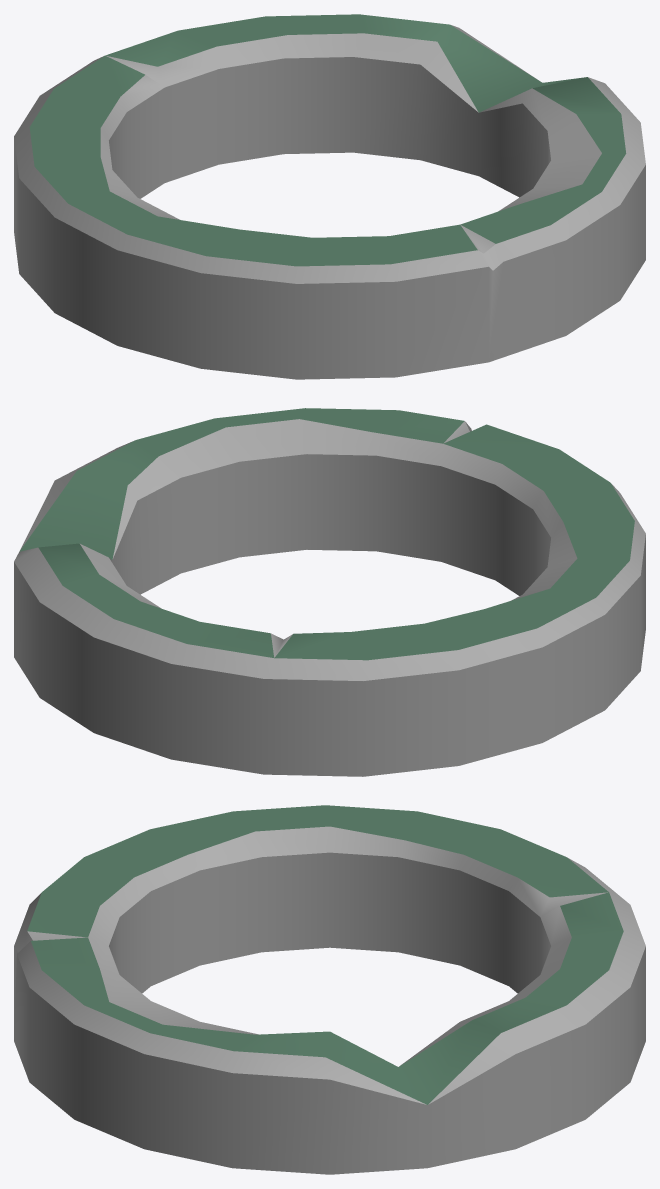
3 renders of one model, top to bottom at view 1: azimuth 30°, elevation 25°; view 2: azimuth 150°, elevation 25°; view 3: azimuth 270°, elevation 25°, orthographic.
Parts seen in each view (by area): view 1: Circle01; view 2: Circle01; view 3: Circle01.
Boxes of the visible parts, box(x1,y1,x2,y2) form: Circle01: box(14, 14, 645, 379); Circle01: box(14, 408, 645, 776); Circle01: box(14, 805, 645, 1174).
Size of the model in its own units: 1.4 by 0.2643 by 1.4.
